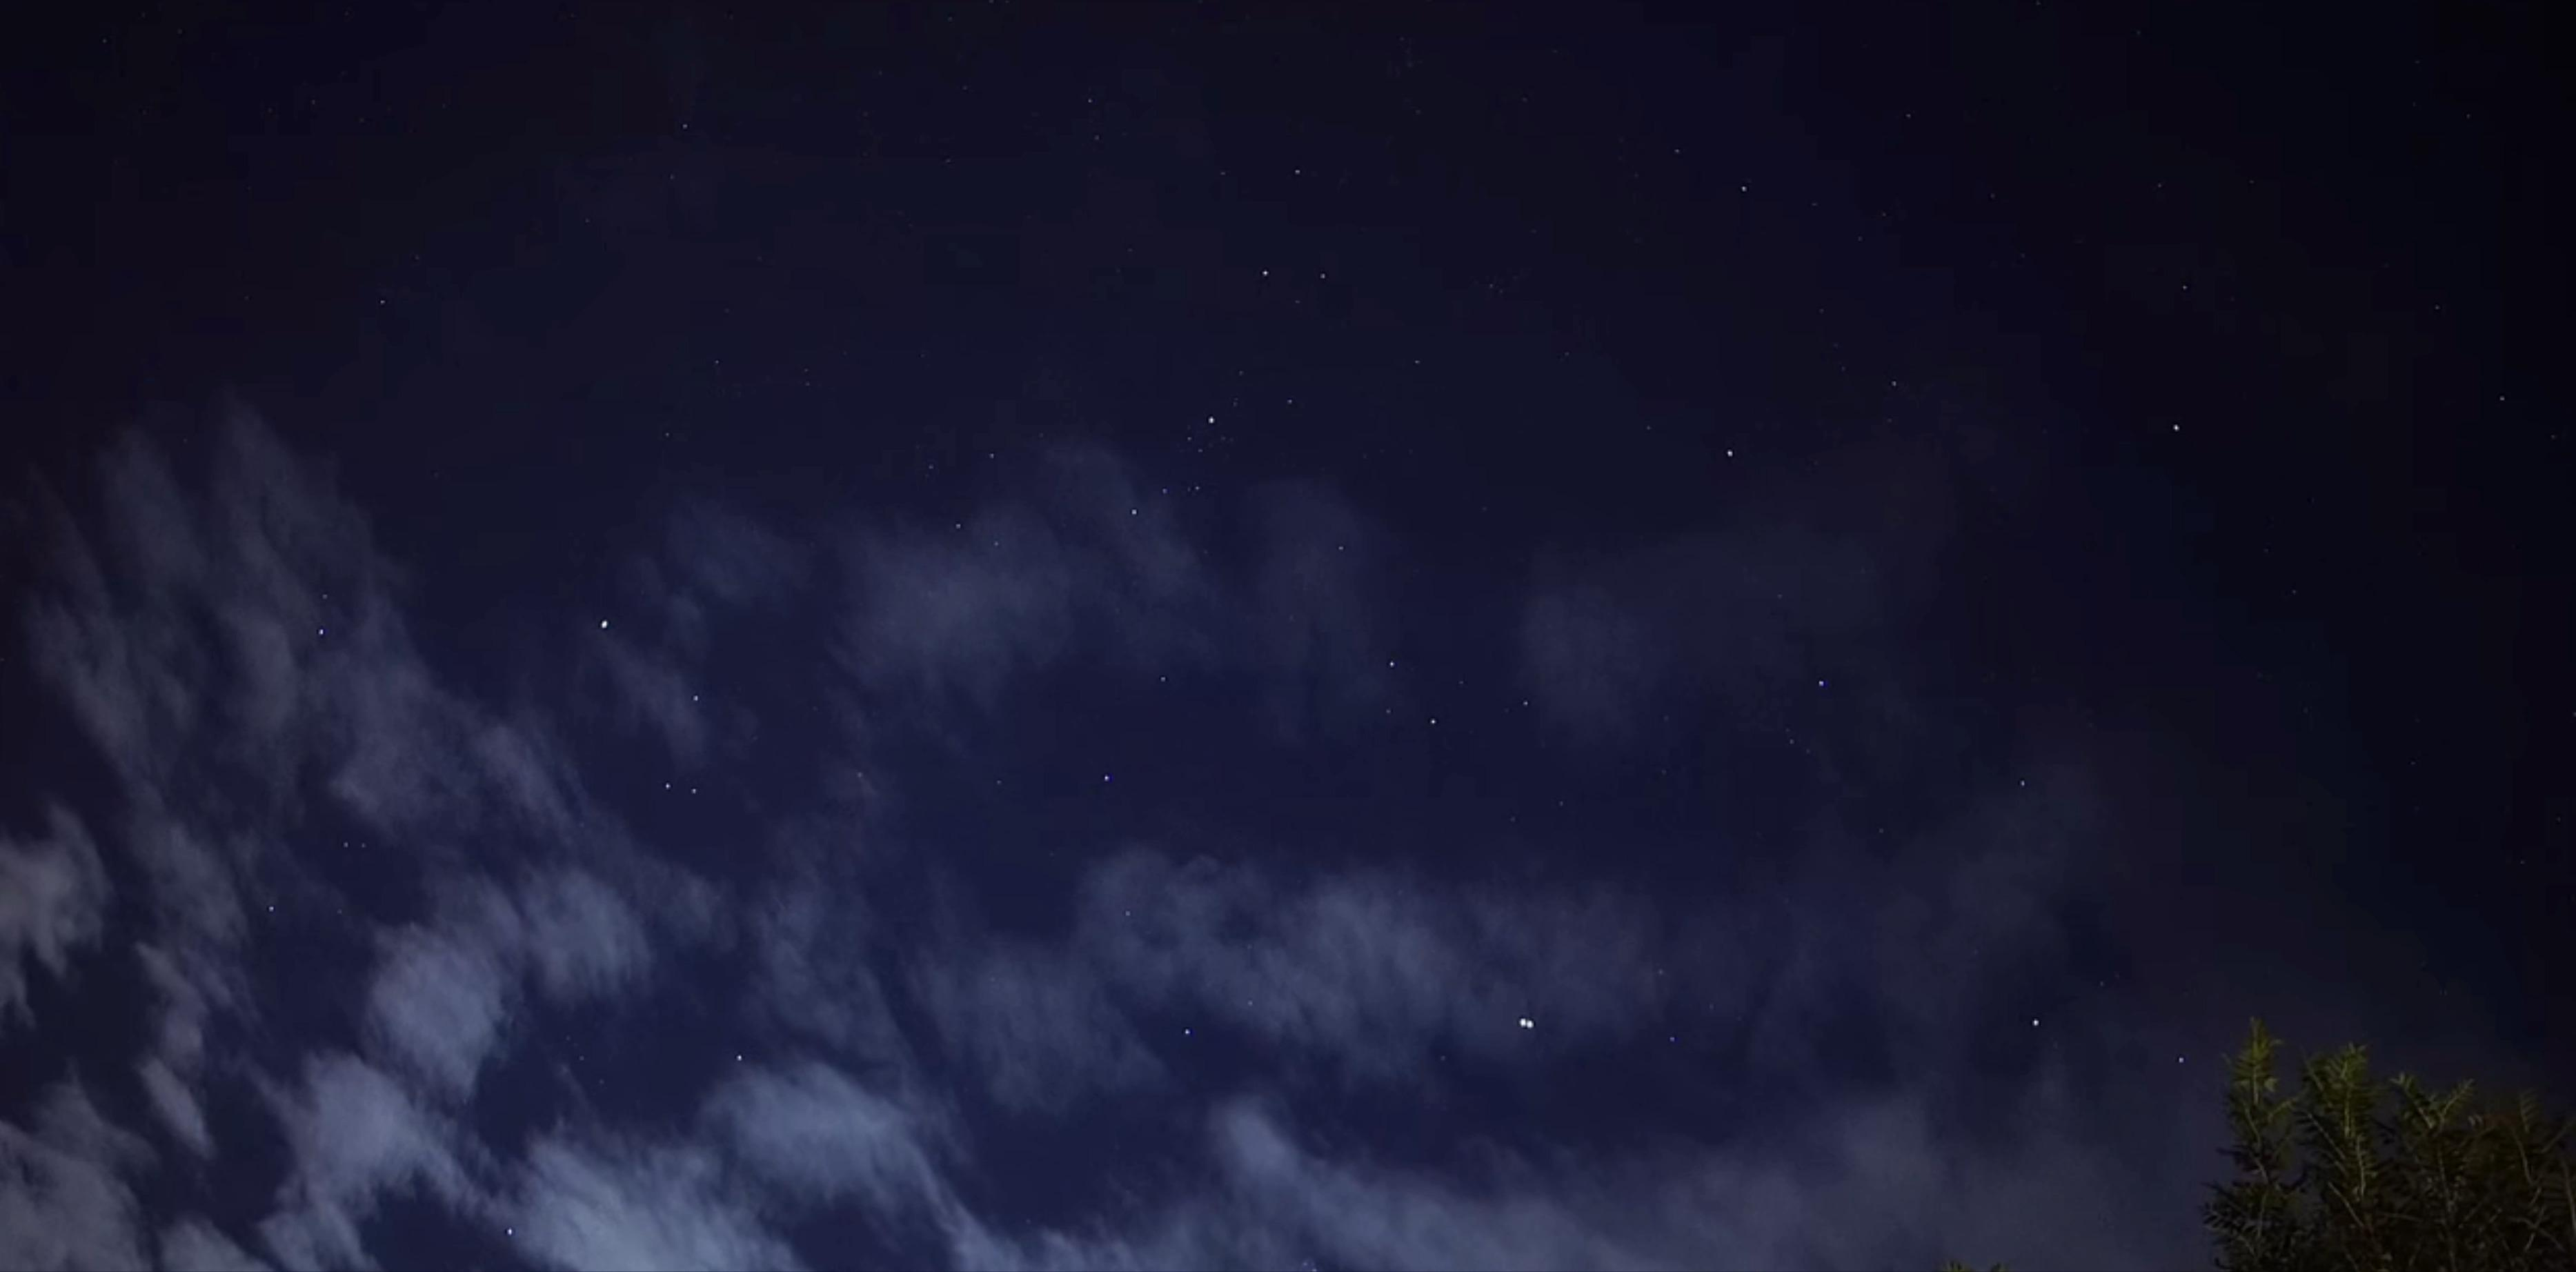Plane: (1508, 1009, 1541, 1030)
